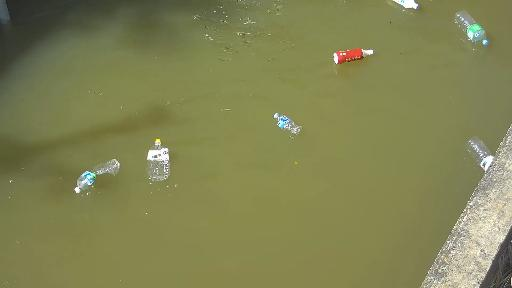plastic: (133, 133, 180, 187), (55, 155, 120, 192), (453, 2, 493, 47), (317, 40, 385, 65), (256, 113, 309, 140), (463, 136, 494, 176), (379, 0, 431, 18)
